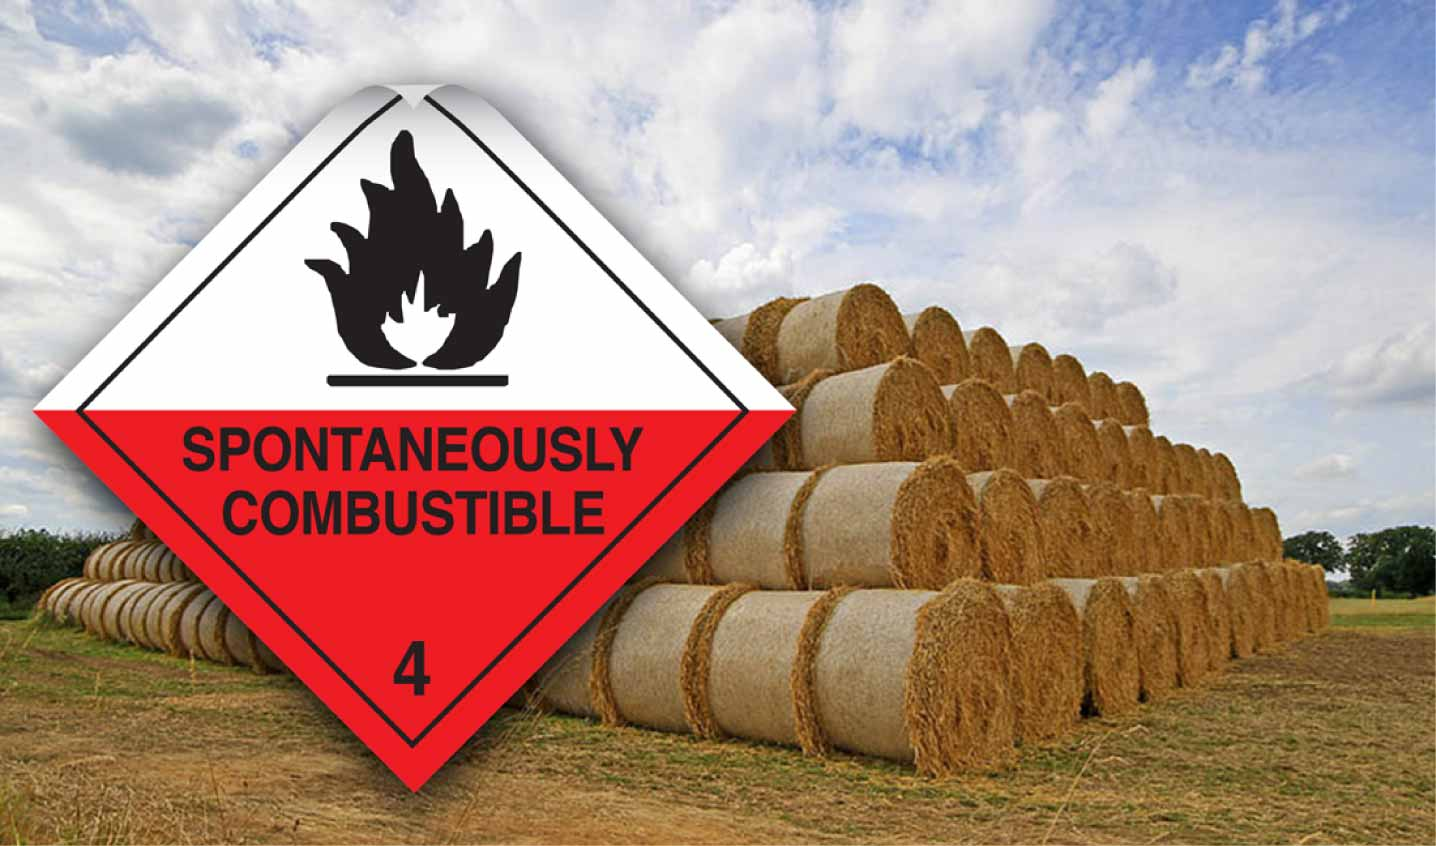SpontaneouslyCombustible: (33, 83, 787, 795)
